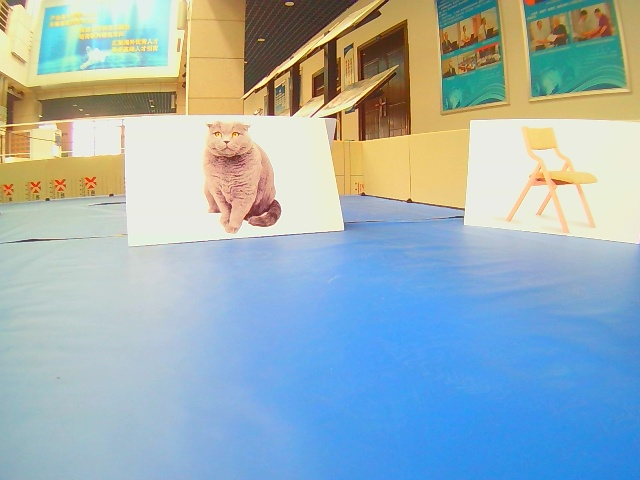pet: (113, 115, 347, 248)
table: (463, 117, 640, 242)
